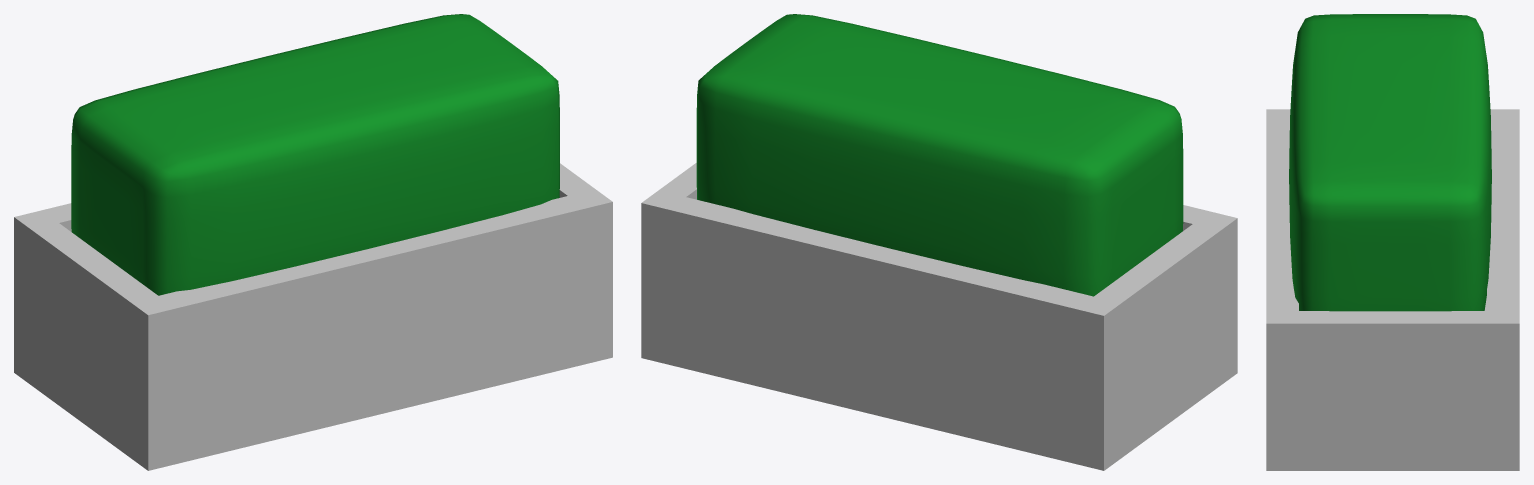
The model's file is wall.obj.
The picture shows the model from 3 angles, left to right: view 1: azimuth 30°, elevation 25°; view 2: azimuth 150°, elevation 25°; view 3: azimuth 270°, elevation 25°; orthographic projection. The views are drawn at different scales.
Parts seen in each view (by area): view 1: wall; view 2: wall; view 3: wall.
Part boxes in pixels (left/top/right/bottom): wall: left=14, top=14, right=612, bottom=470; wall: left=641, top=14, right=1237, bottom=470; wall: left=1266, top=14, right=1519, bottom=470.
Size of the model in its own units: 4 by 2.32 by 2.
